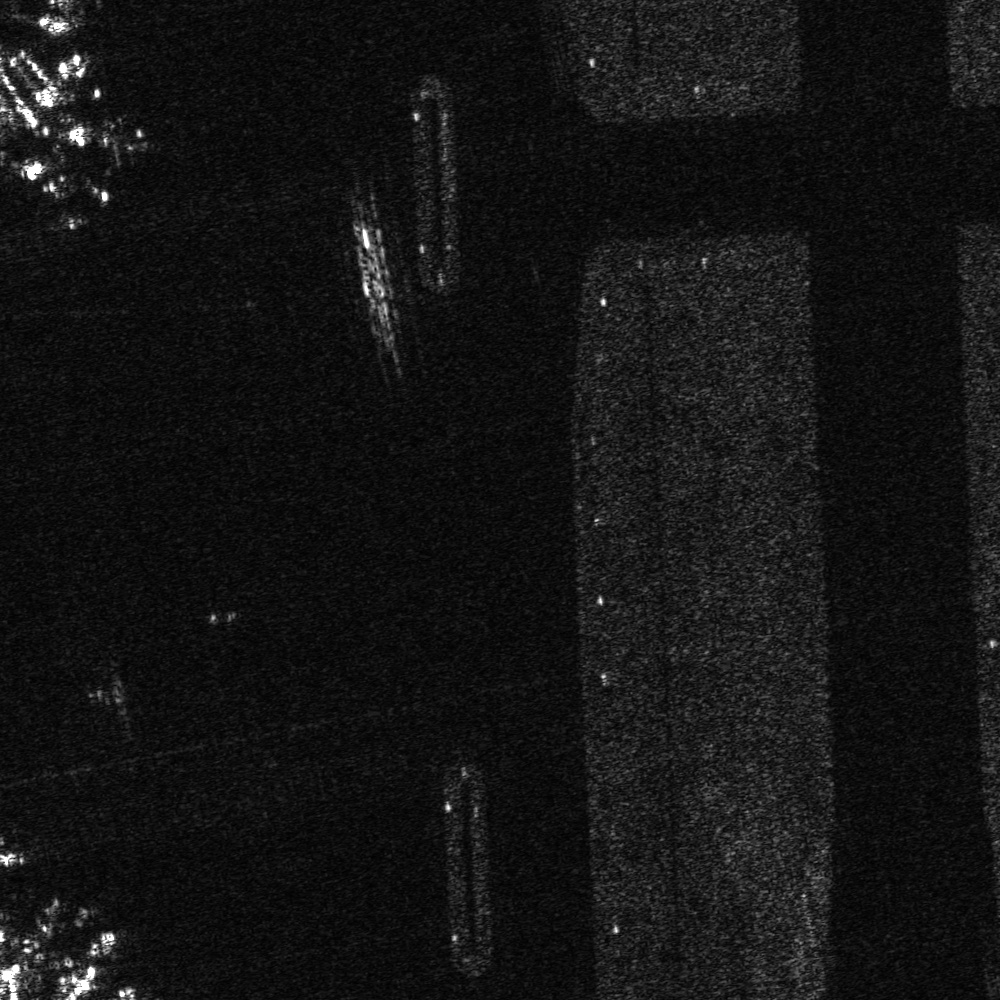A320/321: (59, 111, 152, 172)
Boeing737: (12, 151, 126, 214)
